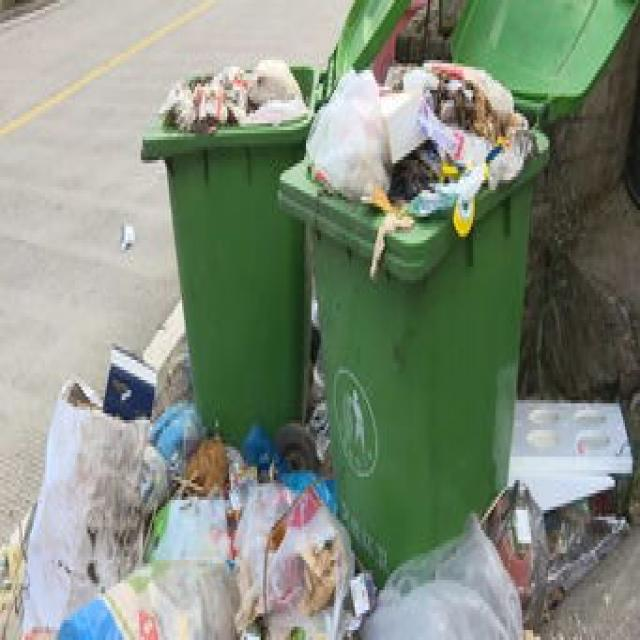garbage: (0, 340, 631, 637)
overflow: (274, 53, 548, 590), (139, 57, 315, 440)
